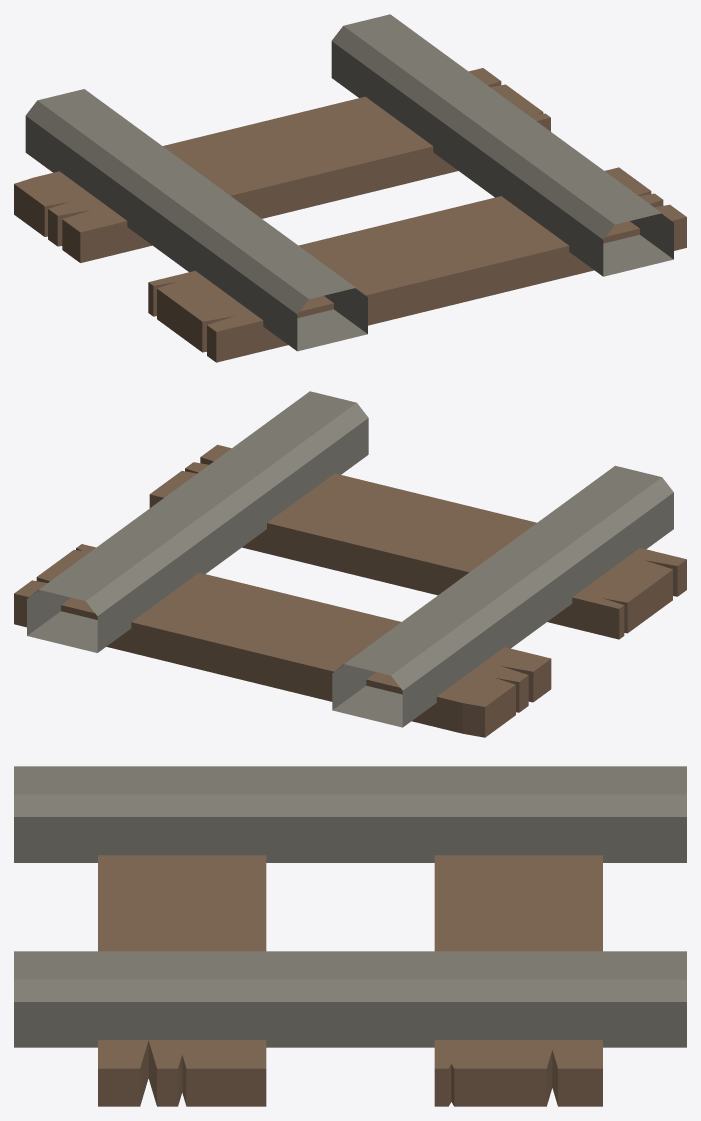
The model's file is Cave_Prop_Railway_Straight_1.obj.
3 renders of one model, top to bottom at view 1: azimuth 30°, elevation 25°; view 2: azimuth 150°, elevation 25°; view 3: azimuth 270°, elevation 25°, orthographic. The views are drawn at different scales.
Parts seen in each view (by area): view 1: object3, object2, object4, object1; view 2: object2, object3, object1, object4; view 3: object2, object3, object1, object4.
Part boxes in pixels (x1,y1,x2,y2): object3: (331,14,673,276); object2: (25,89,367,351); object4: (148,167,686,362); object1: (14,68,550,262); object2: (332,465,673,727); object3: (27,391,368,652); object1: (14,544,551,737); object4: (149,444,686,639); object2: (14,766,686,862); object3: (14,951,686,1047); object1: (434,855,602,1106); object4: (98,855,266,1106).
Size of the model in its own units: 1 by 0.15 by 1.
